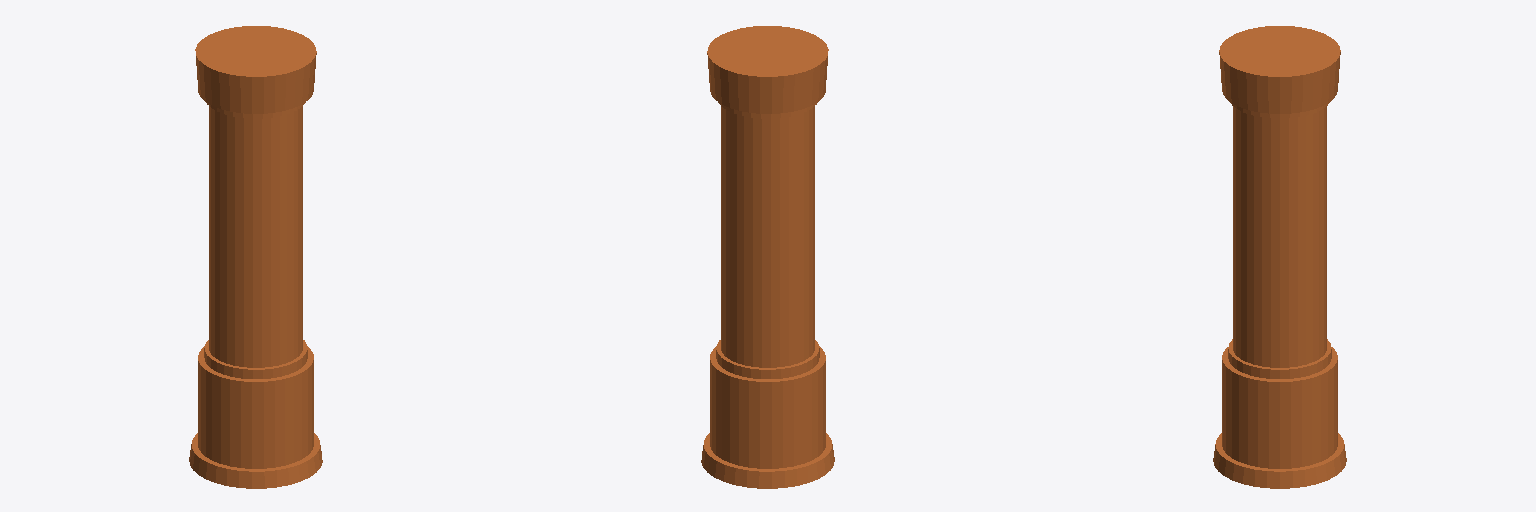
File: kolumna_1.obj
3 views of the same model, side by side, from view 1: azimuth 30°, elevation 25°; view 2: azimuth 150°, elevation 25°; view 3: azimuth 270°, elevation 25° (orthographic).
Visible parts, largest first — view 1: Cylinder; view 2: Cylinder; view 3: Cylinder.
Boxes of the visible parts, x1=… form: Cylinder: x1=189, y1=26, x2=322, y2=488; Cylinder: x1=701, y1=26, x2=834, y2=488; Cylinder: x1=1213, y1=26, x2=1346, y2=488.
Size of the model in its own units: 1.55 by 5.25 by 1.55.